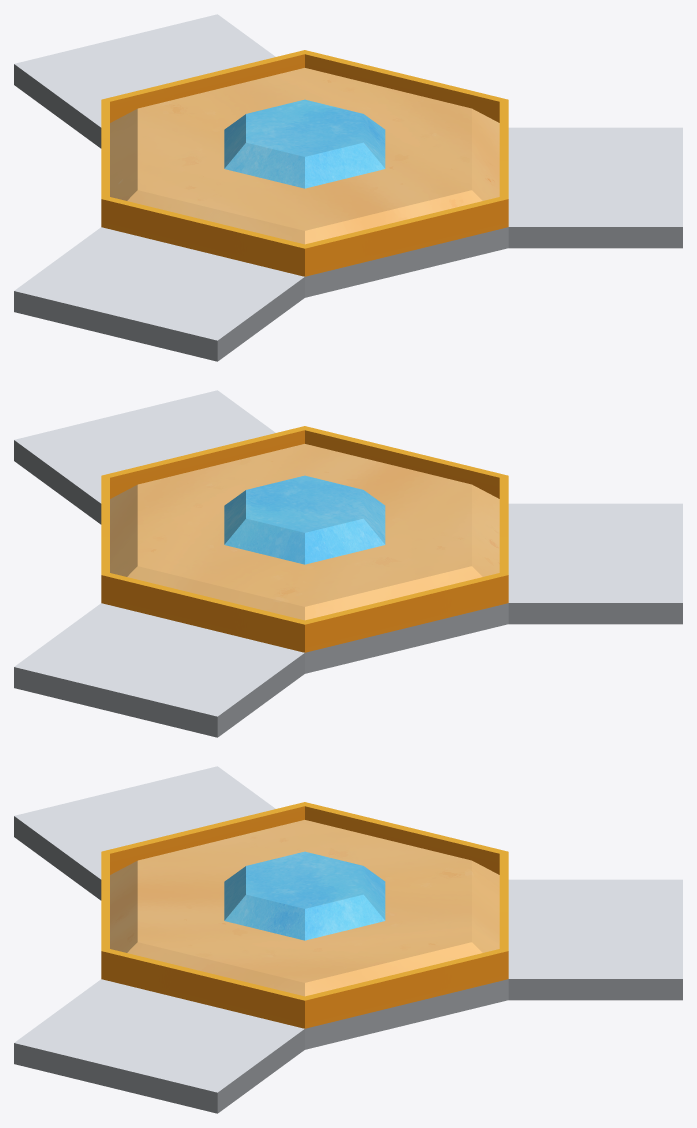
Rendered from battle_stage_5_platform New.fbx.
The picture shows the model from 3 angles, top to bottom: view 1: azimuth 30°, elevation 25°; view 2: azimuth 150°, elevation 25°; view 3: azimuth 270°, elevation 25°; orthographic projection.
Visible parts, largest first — view 1: Cylinder.046, Cylinder.056, Cylinder.047, Cylinder.055; view 2: Cylinder.046, Cylinder.056, Cylinder.047, Cylinder.055; view 3: Cylinder.046, Cylinder.056, Cylinder.047, Cylinder.055.
Boxes of the visible parts, left/top/right/bottom form: Cylinder.046: left=14, top=14, right=682, bottom=361; Cylinder.056: left=110, top=68, right=499, bottom=244; Cylinder.047: left=101, top=50, right=508, bottom=276; Cylinder.055: left=224, top=99, right=385, bottom=188; Cylinder.046: left=14, top=390, right=682, bottom=737; Cylinder.056: left=110, top=444, right=499, bottom=620; Cylinder.047: left=101, top=426, right=508, bottom=652; Cylinder.055: left=224, top=475, right=385, bottom=564; Cylinder.046: left=14, top=766, right=682, bottom=1113; Cylinder.056: left=110, top=820, right=499, bottom=996; Cylinder.047: left=101, top=802, right=508, bottom=1028; Cylinder.055: left=224, top=851, right=385, bottom=940.
Bounding box in the file's own units: 9963 × 1000 × 8628.
